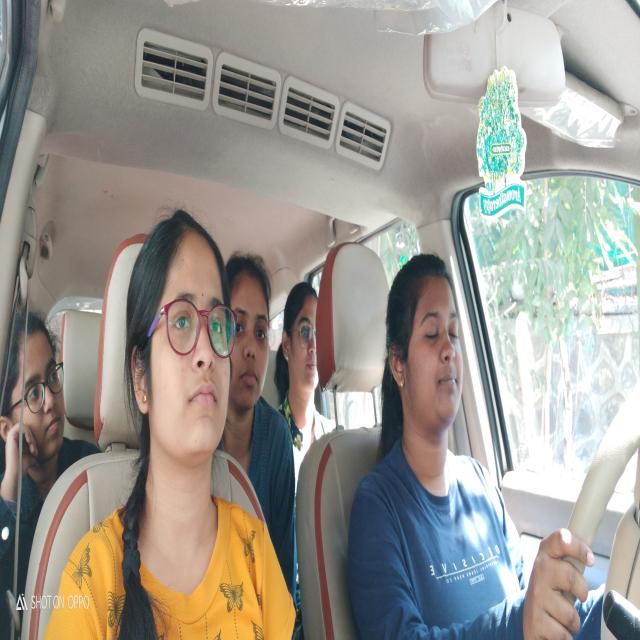drowsy: (386, 260, 466, 440)
person: (125, 211, 238, 464), (2, 309, 71, 462), (227, 248, 268, 412), (281, 280, 323, 404)
